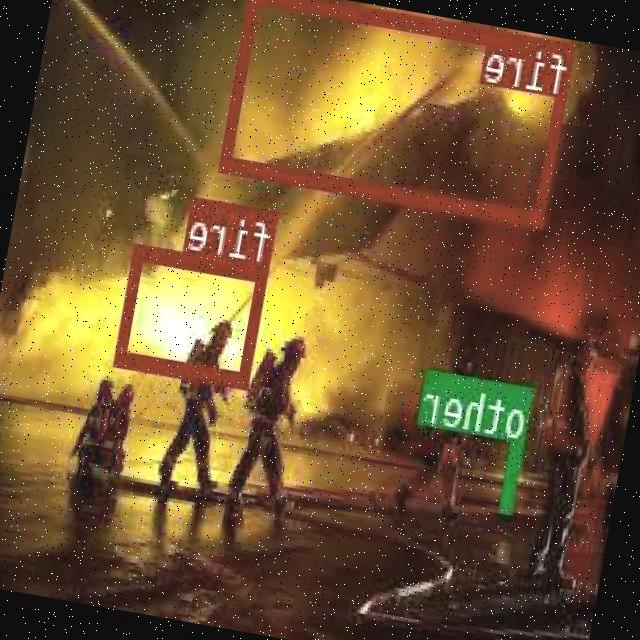fire: (221, 0, 577, 225), (116, 242, 270, 386)
